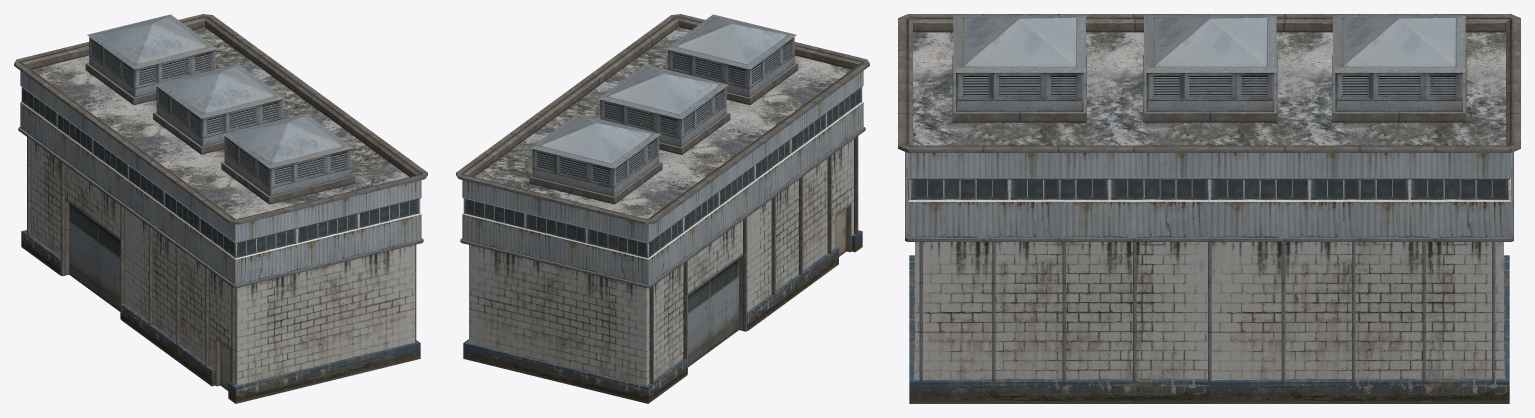
File: Hangar_v4_1.FBX
The picture shows the model from 3 angles, left to right: view 1: azimuth 30°, elevation 25°; view 2: azimuth 150°, elevation 25°; view 3: azimuth 270°, elevation 25°; orthographic projection. The views are drawn at different scales.
Parts seen in each view (by area): view 1: Hangar_v4_1, Hangar_v4_1_door1, Hangar_v4_1_door2; view 2: Hangar_v4_1, Hangar_v4_1_door1, Hangar_v4_1_door2; view 3: Hangar_v4_1.
Part boxes in pixels (x1=…): Hangar_v4_1: x1=14, y1=14, x2=427, y2=403; Hangar_v4_1_door1: x1=69, y1=203, x2=120, y2=311; Hangar_v4_1_door2: x1=220, y1=343, x2=230, y2=390; Hangar_v4_1: x1=456, y1=14, x2=869, y2=403; Hangar_v4_1_door1: x1=688, y1=259, x2=738, y2=367; Hangar_v4_1_door2: x1=836, y1=209, x2=846, y2=256; Hangar_v4_1: x1=898, y1=14, x2=1520, y2=403.
Size of the model in its own units: 11.67 by 12.89 by 22.62.
